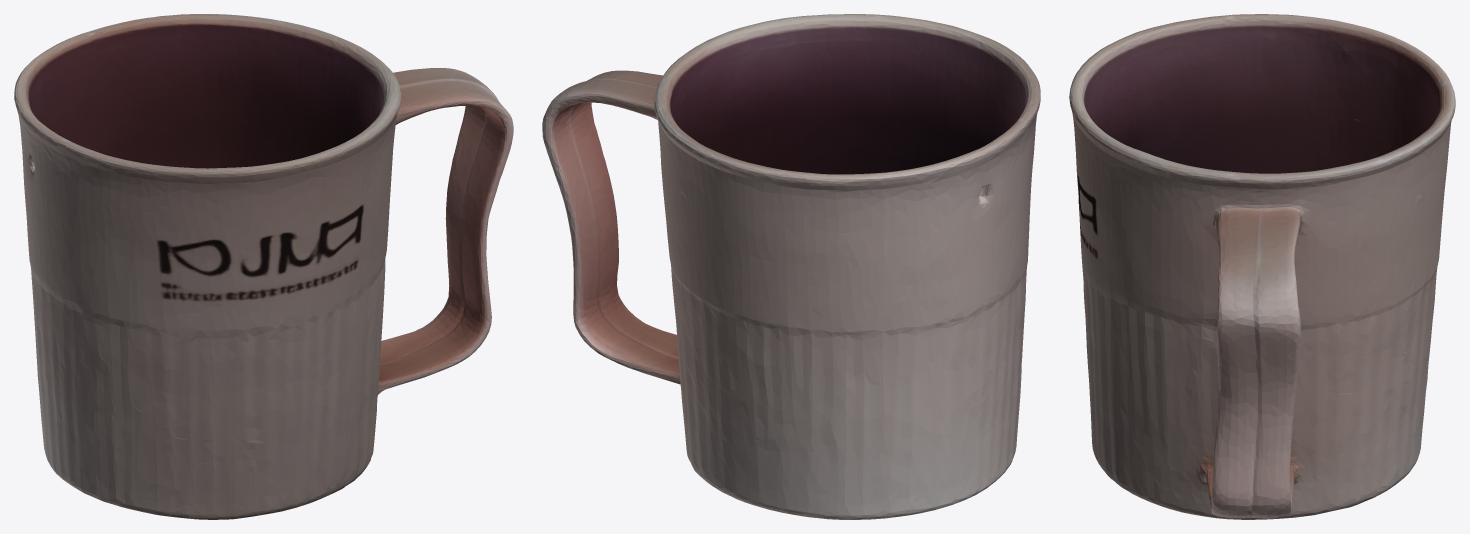
The model's file is pink_mug.glb.
The picture shows the model from 3 angles, left to right: view 1: azimuth 30°, elevation 25°; view 2: azimuth 150°, elevation 25°; view 3: azimuth 270°, elevation 25°; orthographic projection.
Parts seen in each view (by area): view 1: geometry_0; view 2: geometry_0; view 3: geometry_0.
Part boxes in pixels (box(x1,y1,x2,y2)): geometry_0: box(14, 14, 513, 519); geometry_0: box(542, 14, 1040, 519); geometry_0: box(1069, 14, 1455, 519).
Size of the model in its own units: 89.83 by 69 by 65.71.
Materials: 1 (1 with a texture image).
